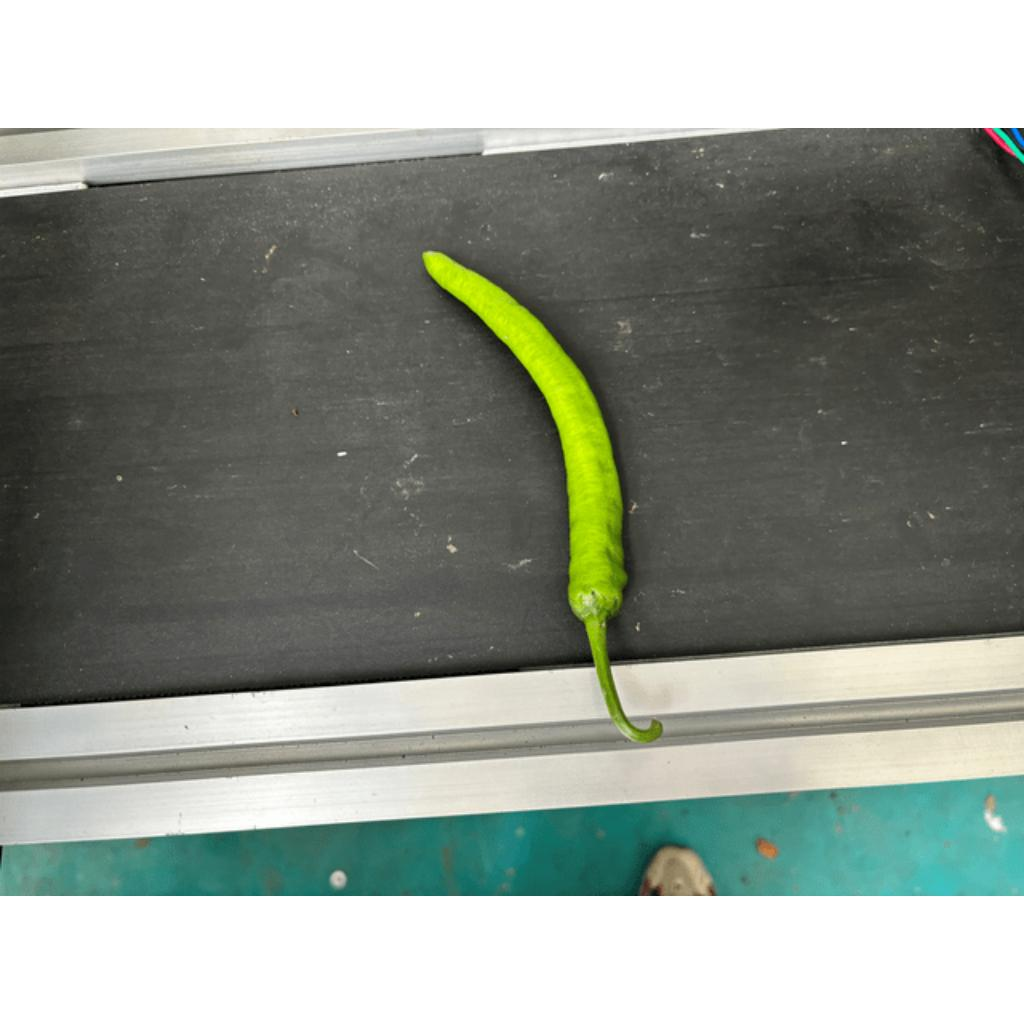chili: (418, 246, 633, 625)
